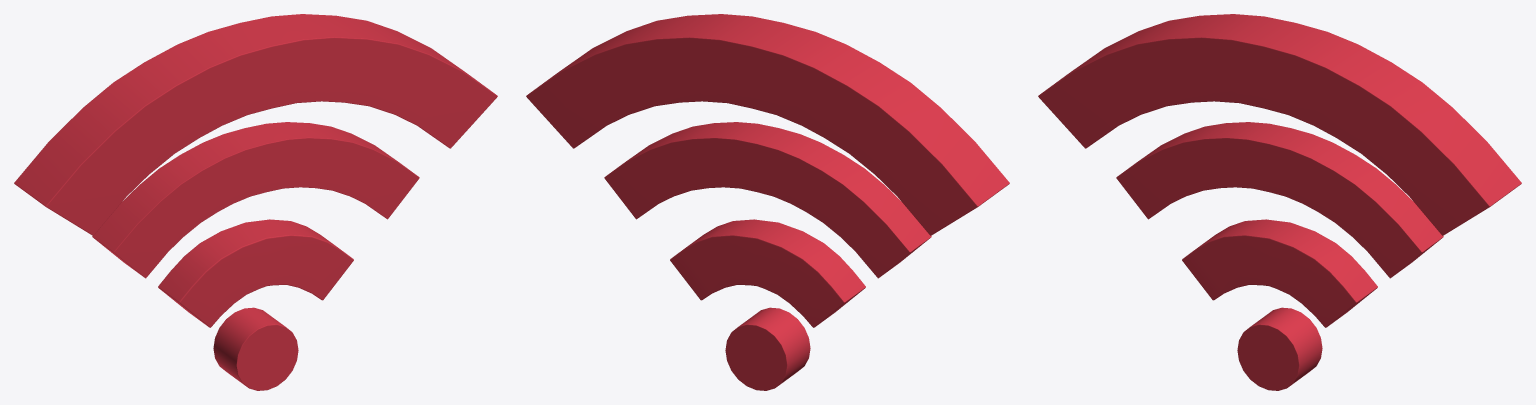
The model's file is imbera-wifi.gltf.
3 renders of one model, left to right at view 1: azimuth 30°, elevation 25°; view 2: azimuth 150°, elevation 25°; view 3: azimuth 330°, elevation 25°, orthographic.
Visible parts, largest first — view 1: wifi; view 2: wifi; view 3: wifi.
Boxes of the visible parts, left/top/right/bottom form: wifi: left=14, top=14, right=497, bottom=390; wifi: left=526, top=14, right=1009, bottom=390; wifi: left=1038, top=14, right=1521, bottom=390.
Bounding box in the file's own units: 2.95 × 2.16 × 0.3648.
